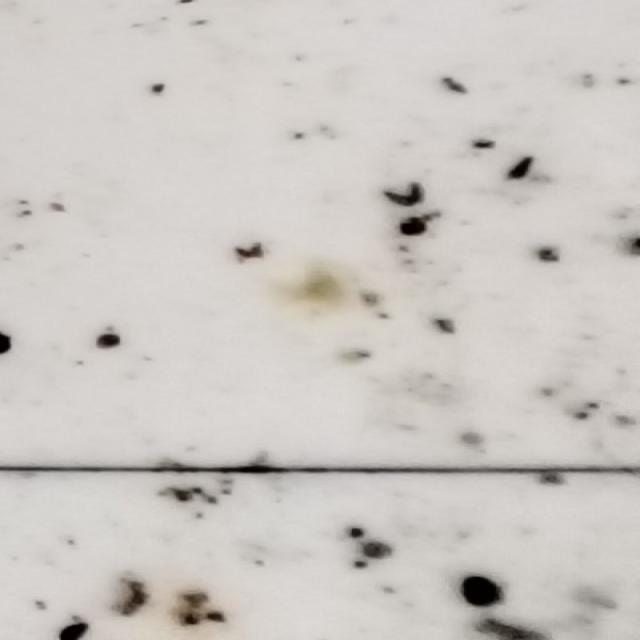varroa: (461, 575, 506, 609)
